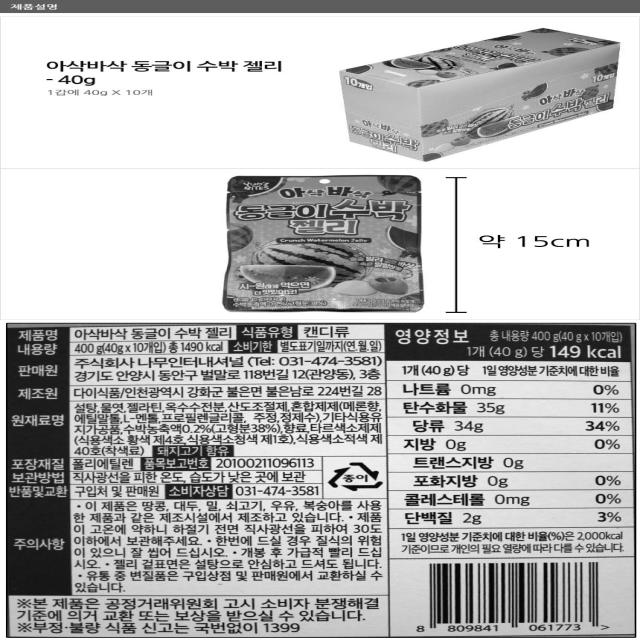Nutrition Label: (382, 317, 640, 565)
